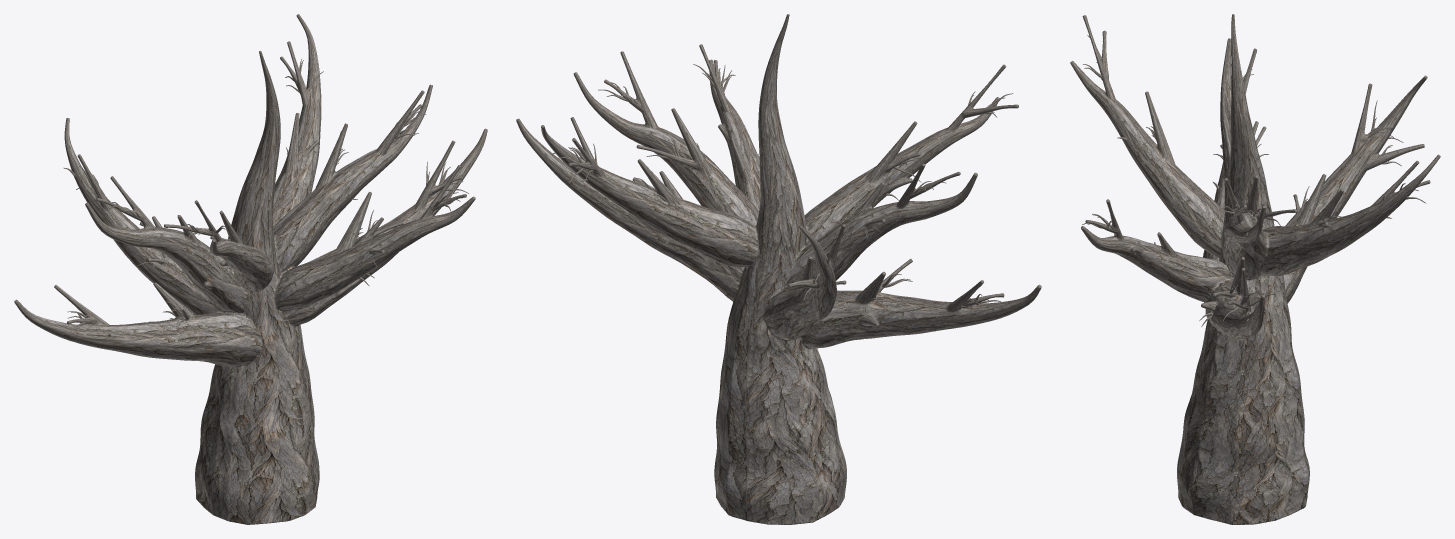
The model's file is colossal-dead-oak-v01.glb.
3 views of the same model, side by side, from view 1: azimuth 30°, elevation 25°; view 2: azimuth 150°, elevation 25°; view 3: azimuth 270°, elevation 25° (orthographic). The views are drawn at different scales.
Parts seen in each view (by area): view 1: Colossal dead oak — flat base and bare crown; view 2: Colossal dead oak — flat base and bare crown; view 3: Colossal dead oak — flat base and bare crown.
Part boxes in pixels (bbox=[...]): Colossal dead oak — flat base and bare crown: bbox=[14, 14, 487, 524]; Colossal dead oak — flat base and bare crown: bbox=[516, 14, 1041, 524]; Colossal dead oak — flat base and bare crown: bbox=[1070, 14, 1440, 524].
Size of the model in its own units: 7.1 by 6.35 by 4.41.
Materials: 1 (1 with a texture image).
